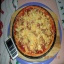pizza: (13, 12, 54, 55)
